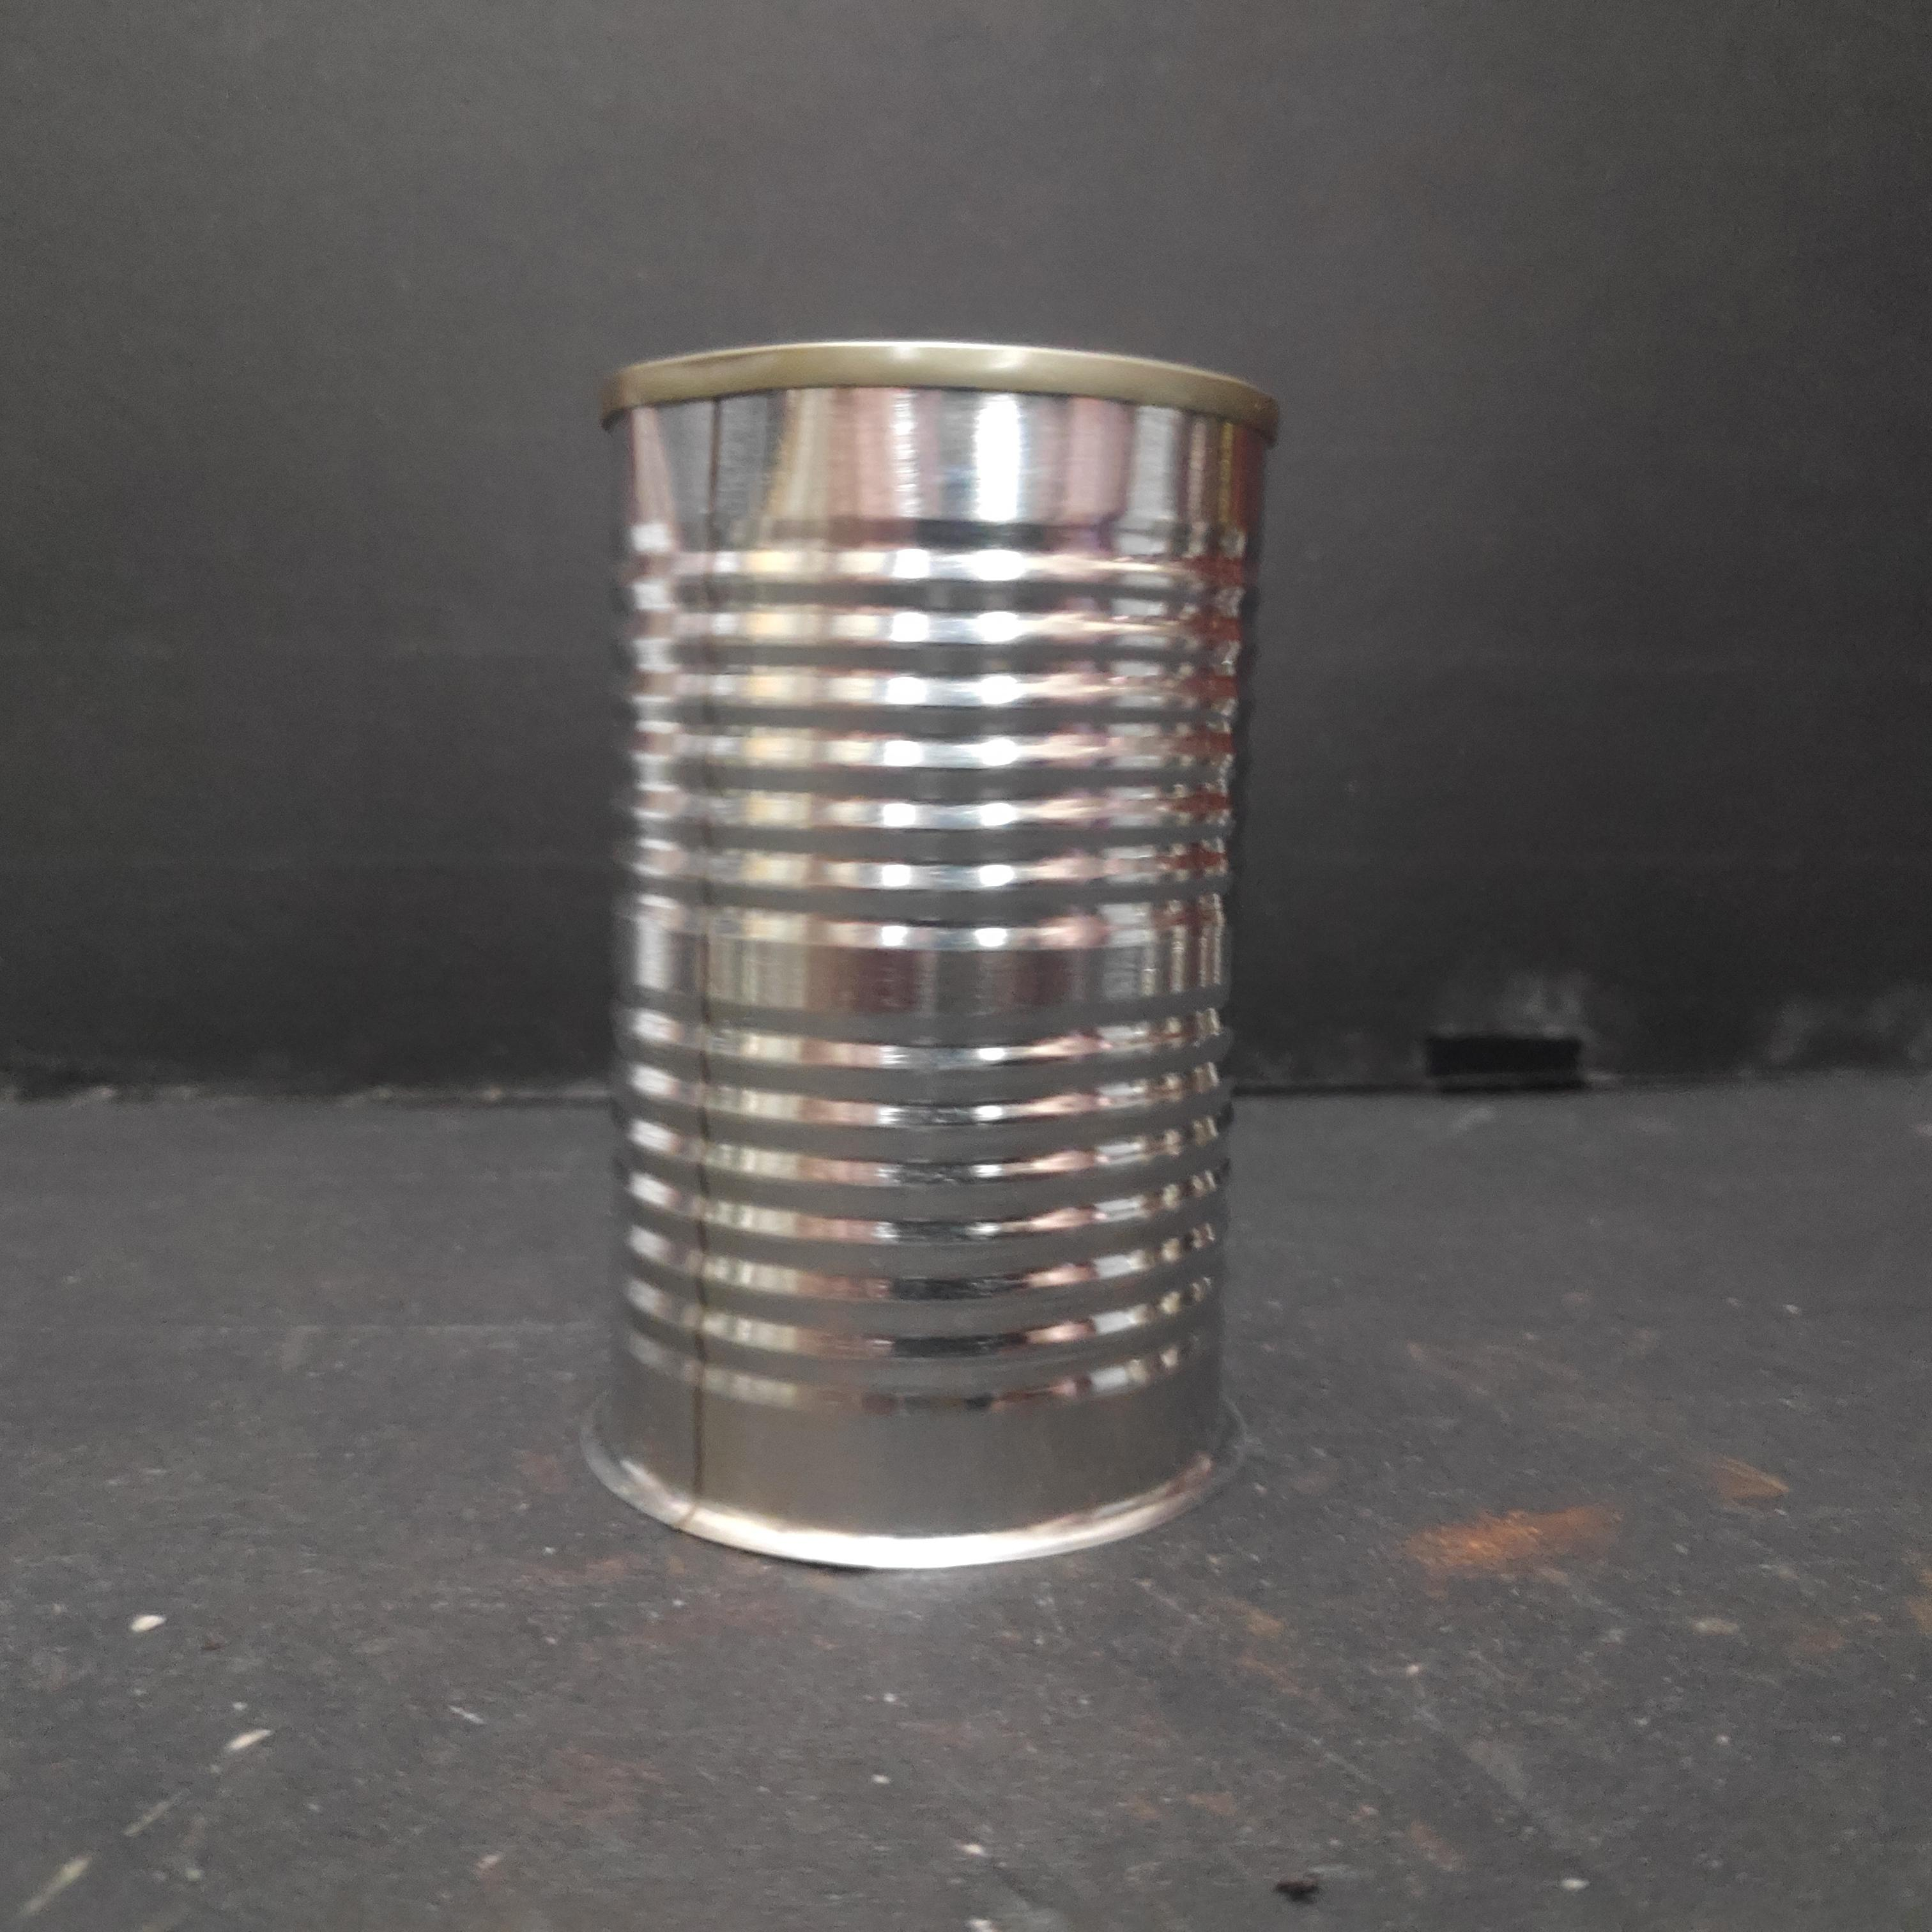Minor Defect: (593, 327, 1293, 1573)
